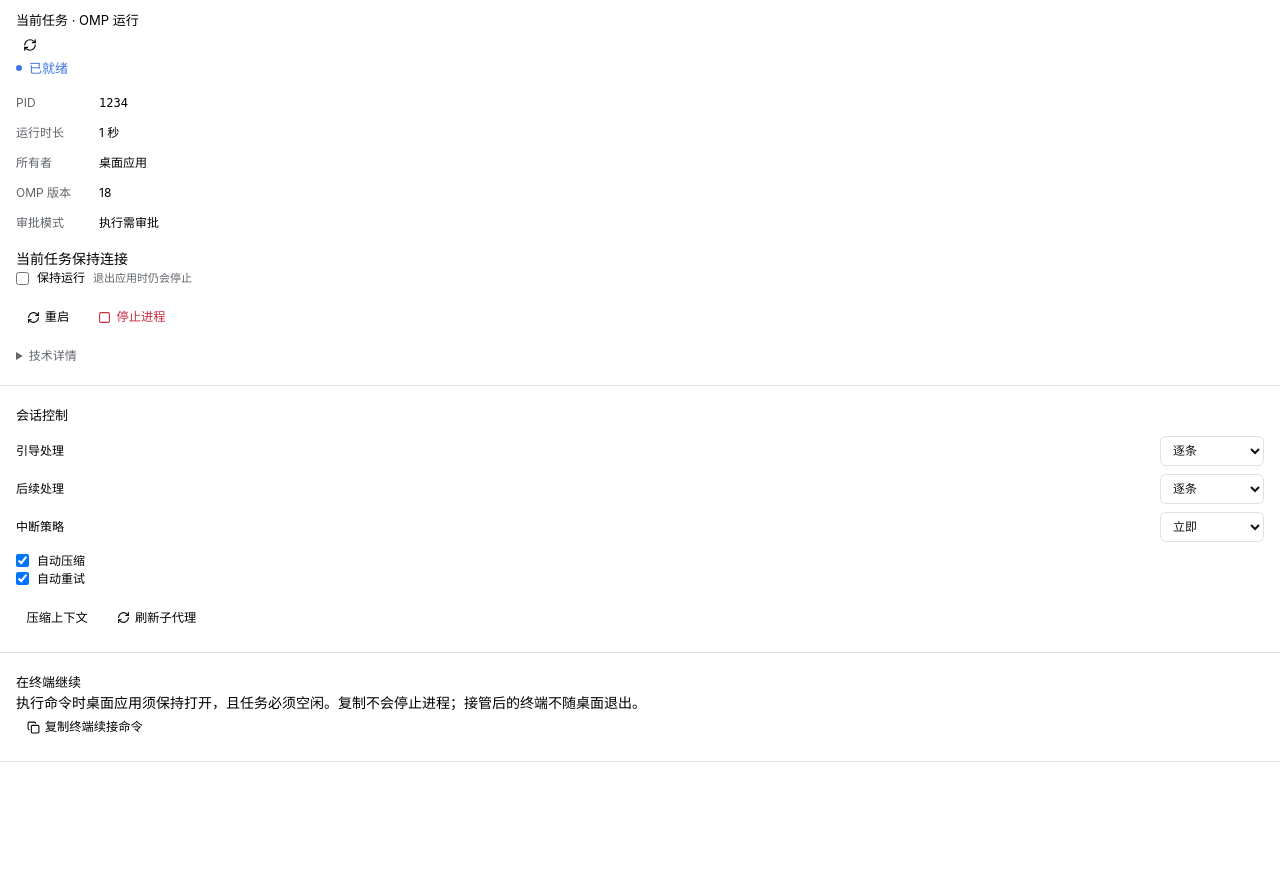
Test: copying a command never stops a runtime and exposes preview when clipboard fails
Click the button "复制终端续接命令": {"x": 85, "y": 727} x1=16 y1=713 x2=153 y2=741
(page scrolled)
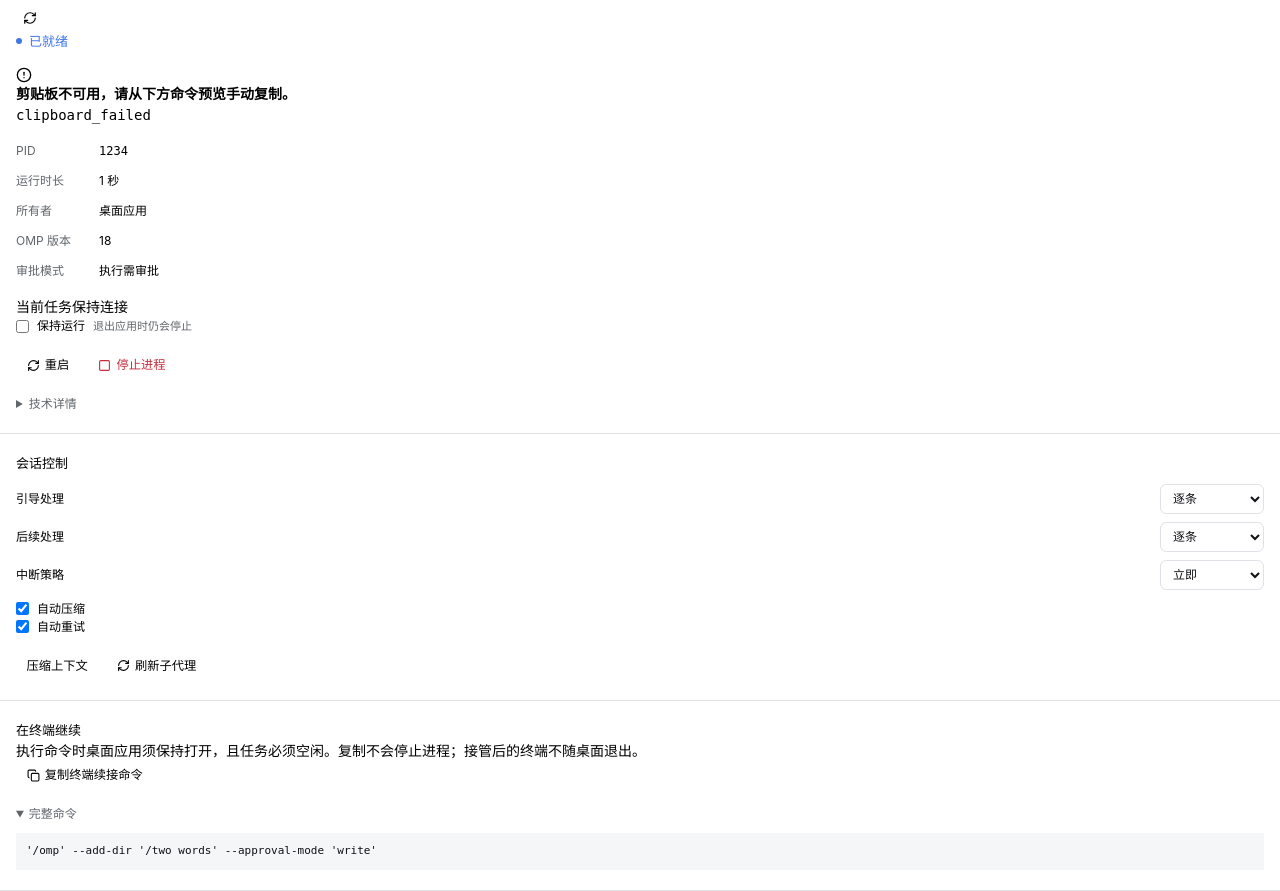
expect the text "剪贴板不可用，请从下方命令预览手动复制。" is shown: met, box x1=16 y1=85 x2=296 y2=102
expect the text "'/omp' --add-dir '/two words' --approval-mode 'write'" is shown: met, box x1=16 y1=833 x2=1264 y2=870
